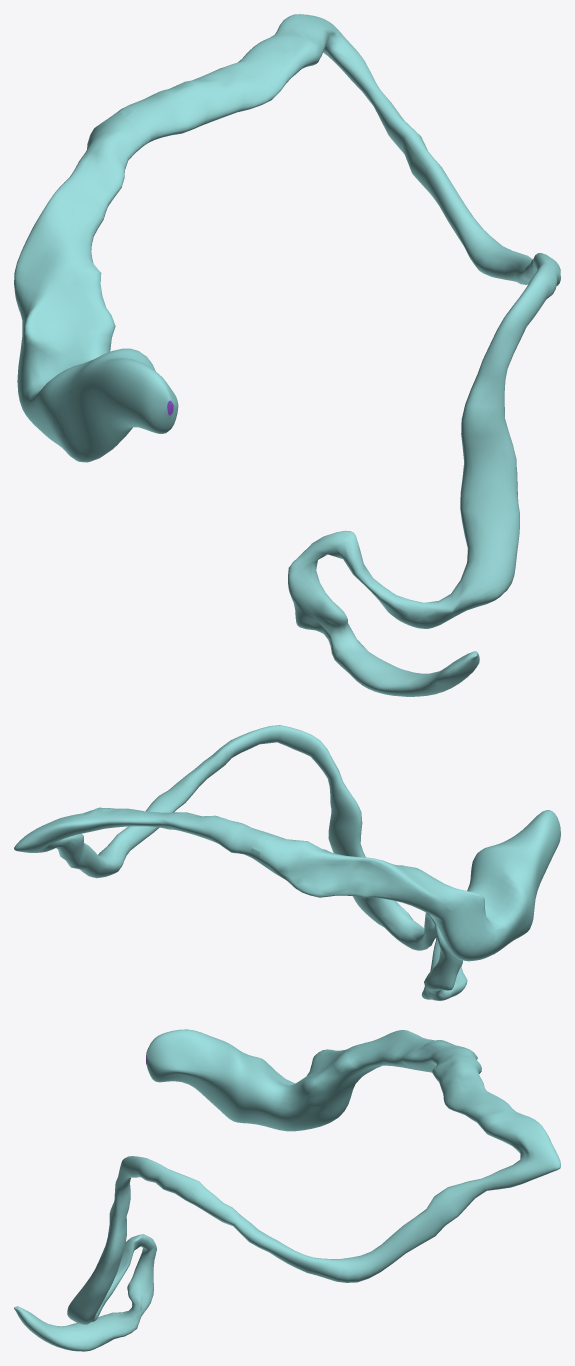
Rendered from Colon4_Mucosa.fbx.
3 views of the same model, one above another, from view 1: azimuth 30°, elevation 25°; view 2: azimuth 150°, elevation 25°; view 3: azimuth 270°, elevation 25° (orthographic). The views are drawn at different scales.
Visible parts, largest first — view 1: Colon4_Mucosa; view 2: Colon4_Mucosa; view 3: Colon4_Mucosa.
Boxes of the visible parts, x1=… form: Colon4_Mucosa: x1=14, y1=14, x2=560, y2=696; Colon4_Mucosa: x1=14, y1=725, x2=560, y2=1000; Colon4_Mucosa: x1=14, y1=1029, x2=560, y2=1351.
Size of the model in its own units: 205 by 153 by 252.
